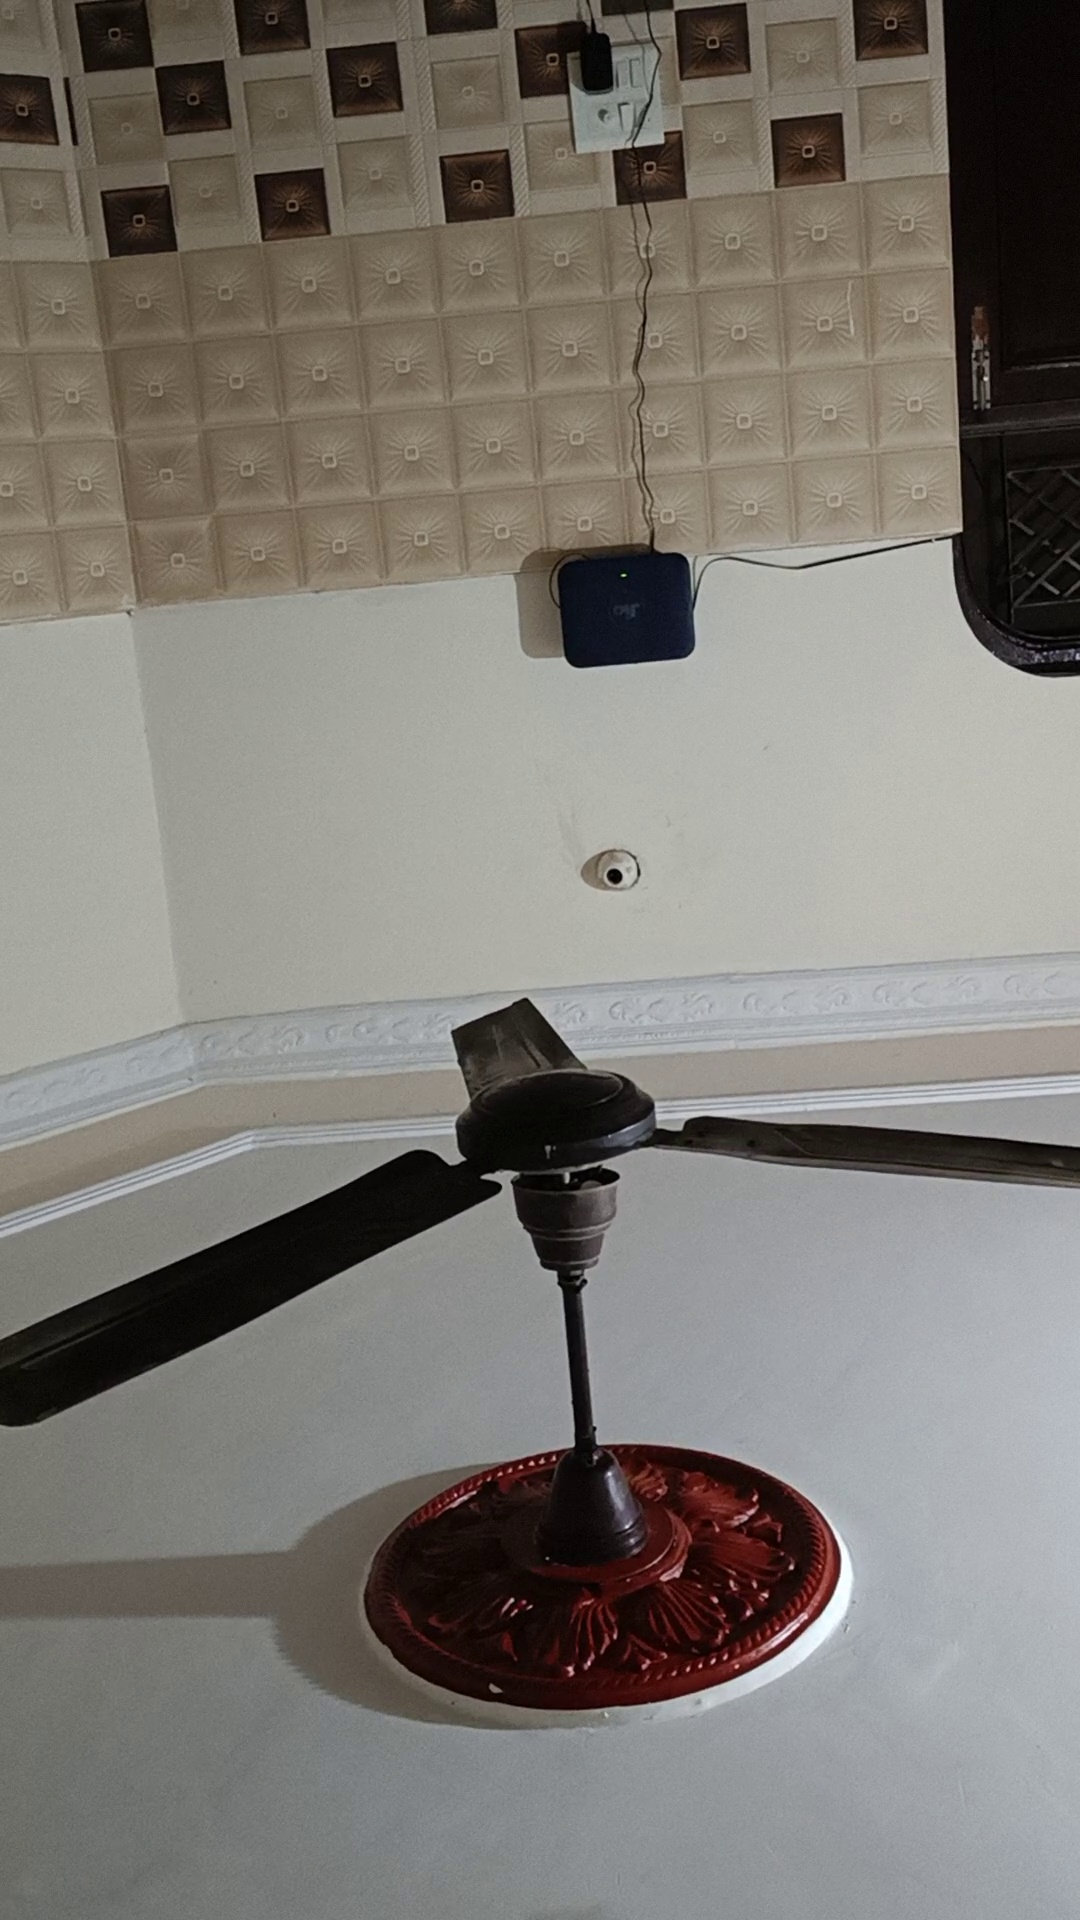fan: (21, 963, 1080, 1569)
